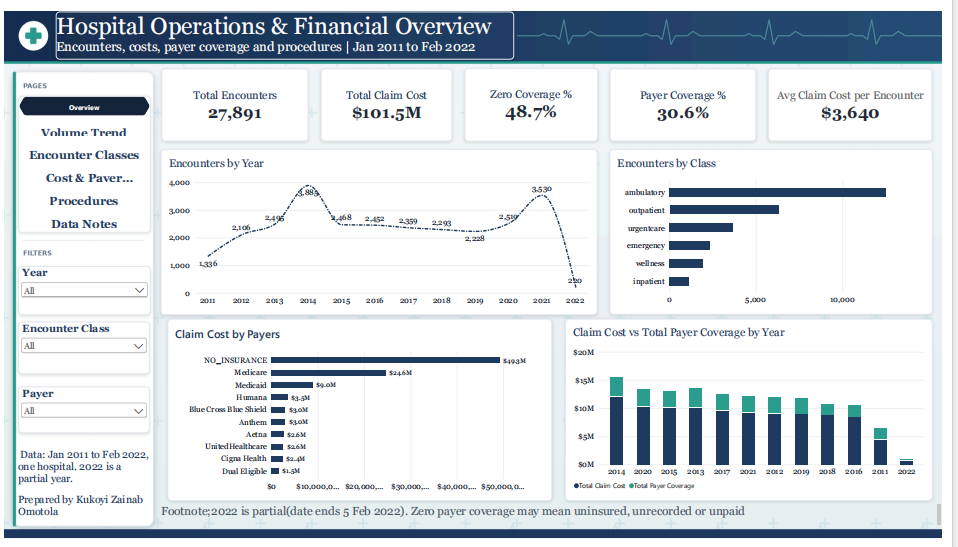

The dashboard page shown, as its layout file describes it:
{"tool":"powerbi","page":{"name":"Overview","canvas":[1920,1080],"ordinal":0},"visuals":[{"type":"textbox","box":[104.6,0,939.5,97.8],"z":0},{"type":"slicer","fields":{"Values":["DateTable.Year"]},"box":[28.5,522.1,270.6,99.7],"z":1000},{"type":"slicer","fields":{"Values":["encounters.ENCOUNTERCLASS"]},"box":[28.5,636,268.2,106.8],"z":2000},{"type":"slicer","fields":{"Values":["payers.NAME"]},"box":[28.5,768.9,268.2,94.9],"z":3000},{"type":"cardVisual","fields":{"Data":["_Measures.Total Encounters"]},"box":[320.8,116,302.6,150.1],"z":4000},{"type":"cardVisual","fields":{"Data":["_Measures.Total Claim Cost"]},"box":[647.8,116,270.7,150.1],"z":5000},{"type":"cardVisual","fields":{"Data":["_Measures.Avg Claim Cost per Encounter"]},"box":[1565.1,116,336.7,150.1],"z":6000},{"type":"cardVisual","fields":{"Data":["_Measures.Payer Coverage %"]},"box":[1240.4,116,300.3,150.1],"z":7000},{"type":"cardVisual","fields":{"Data":["_Measures.Zero Coverage %"]},"box":[942.9,116,273,150.1],"z":8000},{"type":"lineChart","title":"Encounters by Year","fields":{"Category":["DateTable.Year"],"Y":["_Measures.Total Encounters"]},"box":[320.4,282.4,894.7,339.4],"z":9000},{"type":"barChart","title":" Encounters by Class","fields":{"Category":["encounters.ENCOUNTERCLASS"],"Y":["_Measures.Total Encounters"]},"box":[1239.8,282.1,662,339],"z":10000},{"type":"columnChart","title":"Claim Cost vs Total Payer Coverage by Year","fields":{"Category":["DateTable.Year"],"Y":["_Measures.Total Claim Cost","_Measures.Total Payer Coverage"]},"box":[1148.8,630.1,753,373.1],"z":11000},{"type":"barChart","title":"Claim Cost by Payers","fields":{"Category":["payers.NAME"],"Y":["_Measures.Total Claim Cost"]},"box":[334.4,630.1,787.1,373.1],"z":12000},{"type":"textbox","box":[320.8,1010,1599.2,43.2],"z":13000},{"type":"textbox","box":[28.5,894.7,270.6,159],"z":14000},{"type":"pageNavigator","box":[28.5,173.3,270.6,280],"z":15000}]}

Visuals, with their boxes in screenshot pixels (x1, y1, x2, y2), scaled from the page's 1920x1080 canvas onto the 958x547 screenshot:
textbox: detection(52, 0, 521, 50)
slicer - DateTable.Year: detection(14, 264, 149, 315)
slicer - encounters.ENCOUNTERCLASS: detection(14, 322, 148, 376)
slicer - payers.NAME: detection(14, 389, 148, 437)
cardVisual - _Measures.Total Encounters: detection(160, 59, 311, 135)
cardVisual - _Measures.Total Claim Cost: detection(323, 59, 458, 135)
cardVisual - _Measures.Avg Claim Cost per Encounter: detection(781, 59, 949, 135)
cardVisual - _Measures.Payer Coverage %: detection(619, 59, 769, 135)
cardVisual - _Measures.Zero Coverage %: detection(470, 59, 607, 135)
"Encounters by Year" lineChart: detection(160, 143, 606, 315)
" Encounters by Class" barChart: detection(619, 143, 949, 315)
"Claim Cost vs Total Payer Coverage by Year" columnChart: detection(573, 319, 949, 508)
"Claim Cost by Payers" barChart: detection(167, 319, 560, 508)
textbox: detection(160, 512, 957, 533)
textbox: detection(14, 453, 149, 534)
pageNavigator: detection(14, 88, 149, 230)
